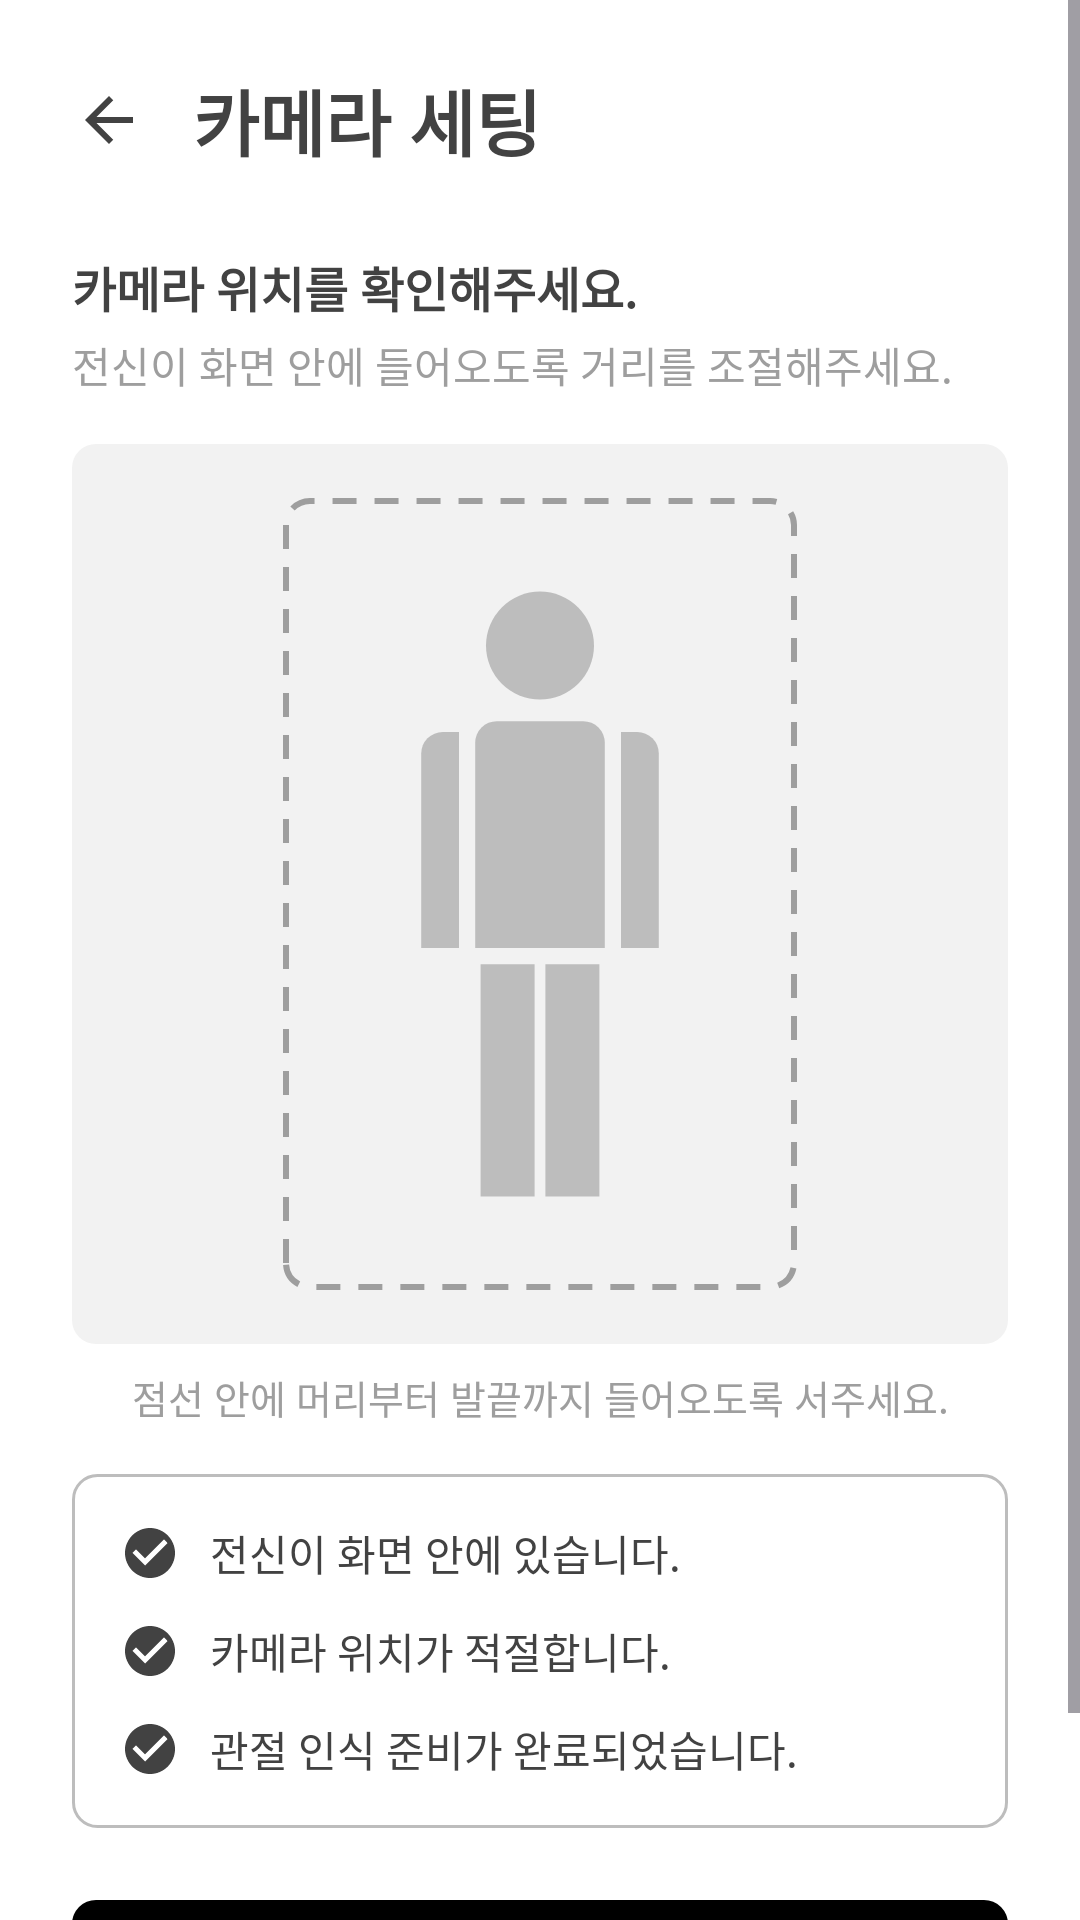

Named icons in this screenshot (1080×1920) and their centers, [x,y]:
check circle: [150,1553], [150,1651], [150,1749]
